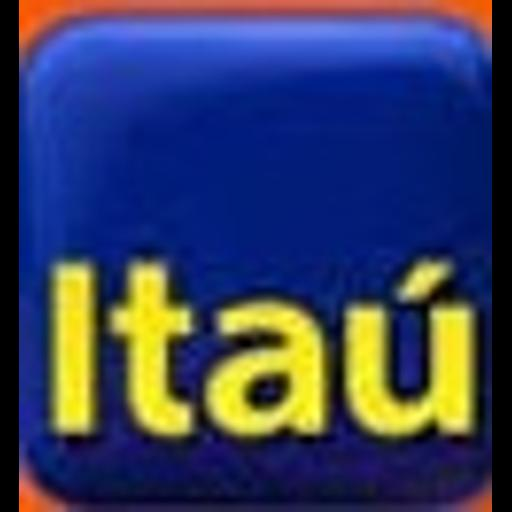Itau Unibanco S-A: (19, 0, 492, 512)
